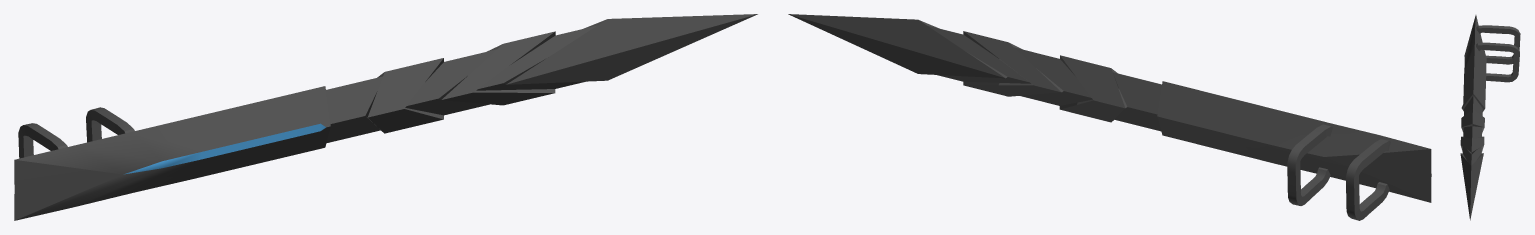
File: BasicSword.fbx
3 views of the same model, side by side, from view 1: azimuth 30°, elevation 25°; view 2: azimuth 150°, elevation 25°; view 3: azimuth 270°, elevation 25° (orthographic). The views are drawn at different scales.
Parts seen in each view (by area): view 1: Sword; view 2: Sword; view 3: Sword.
Boxes of the visible parts, x1=… form: Sword: x1=14, y1=14, x2=757, y2=220; Sword: x1=788, y1=14, x2=1431, y2=220; Sword: x1=1460, y1=15, x2=1520, y2=220.
Size of the model in its own units: 93.44 by 12.44 by 8.49.
